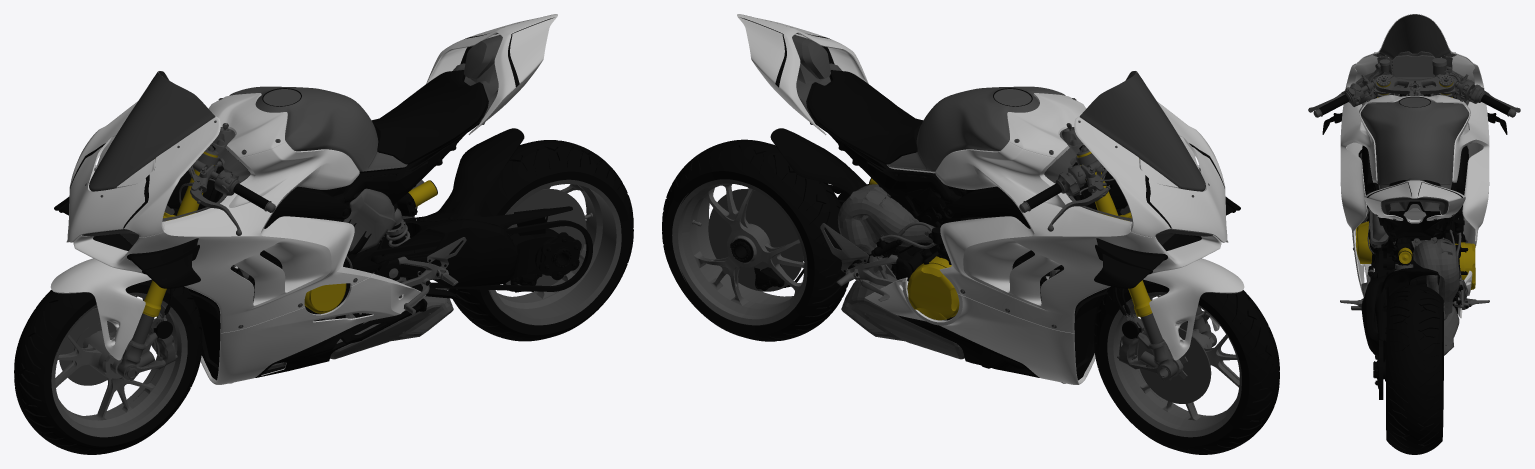
File: ducativ4r.glb
3 renders of one model, left to right at view 1: azimuth 30°, elevation 25°; view 2: azimuth 150°, elevation 25°; view 3: azimuth 270°, elevation 25°, orthographic. The views are drawn at different scales.
Visible parts, largest first — view 1: Object_13, Object_10, Object_21, Object_5, Object_4, Object_25, Object_22, Object_23, Object_3, Object_18, Object_12, Object_17 (+6 smaller); view 2: Object_13, Object_21, Object_4, Object_10, Object_5, Object_22, Object_23, Object_17, Object_3, Object_25, Object_19, Object_12 (+6 smaller); view 3: Object_13, Object_4, Object_23, Object_10, Object_22, Object_16, Object_25, Object_19, Object_18, Object_26, Object_6, Object_20 (+3 smaller).
Boxes of the visible parts, left/top/right/bottom form: Object_13: left=50, top=14, right=557, bottom=384; Object_10: left=93, top=33, right=581, bottom=380; Object_21: left=51, top=179, right=621, bottom=437; Object_5: left=14, top=279, right=202, bottom=454; Object_4: left=448, top=140, right=633, bottom=341; Object_25: left=153, top=74, right=572, bottom=338; Object_22: left=81, top=71, right=215, bottom=344; Object_23: left=229, top=86, right=407, bottom=171; Object_3: left=371, top=70, right=486, bottom=163; Object_18: left=205, top=127, right=466, bottom=320; Object_12: left=54, top=197, right=363, bottom=377; Object_17: left=59, top=188, right=586, bottom=385; Object_13: left=737, top=14, right=1244, bottom=384; Object_21: left=672, top=179, right=1241, bottom=437; Object_4: left=662, top=139, right=850, bottom=341; Object_10: left=730, top=33, right=1201, bottom=380; Object_5: left=1094, top=279, right=1279, bottom=454; Object_22: left=1079, top=71, right=1212, bottom=344; Object_23: left=887, top=86, right=1065, bottom=171; Object_17: left=708, top=188, right=1211, bottom=403; Object_3: left=808, top=70, right=923, bottom=163; Object_25: left=770, top=74, right=1141, bottom=338; Object_19: left=837, top=184, right=1059, bottom=302; Object_12: left=898, top=197, right=1240, bottom=383; Object_13: left=1340, top=51, right=1489, bottom=318; Object_4: left=1386, top=284, right=1443, bottom=454; Object_23: left=1360, top=97, right=1469, bottom=189; Object_10: left=1358, top=86, right=1468, bottom=388; Object_22: left=1373, top=14, right=1456, bottom=214; Object_16: left=1308, top=51, right=1520, bottom=116; Object_25: left=1366, top=96, right=1463, bottom=340; Object_19: left=1393, top=237, right=1459, bottom=314; Object_18: left=1313, top=58, right=1516, bottom=310; Object_26: left=1356, top=82, right=1475, bottom=289; Object_6: left=1319, top=94, right=1510, bottom=115; Object_20: left=1444, top=301, right=1459, bottom=355.
Bounding box in the file's own units: 535 × 302 × 199.
